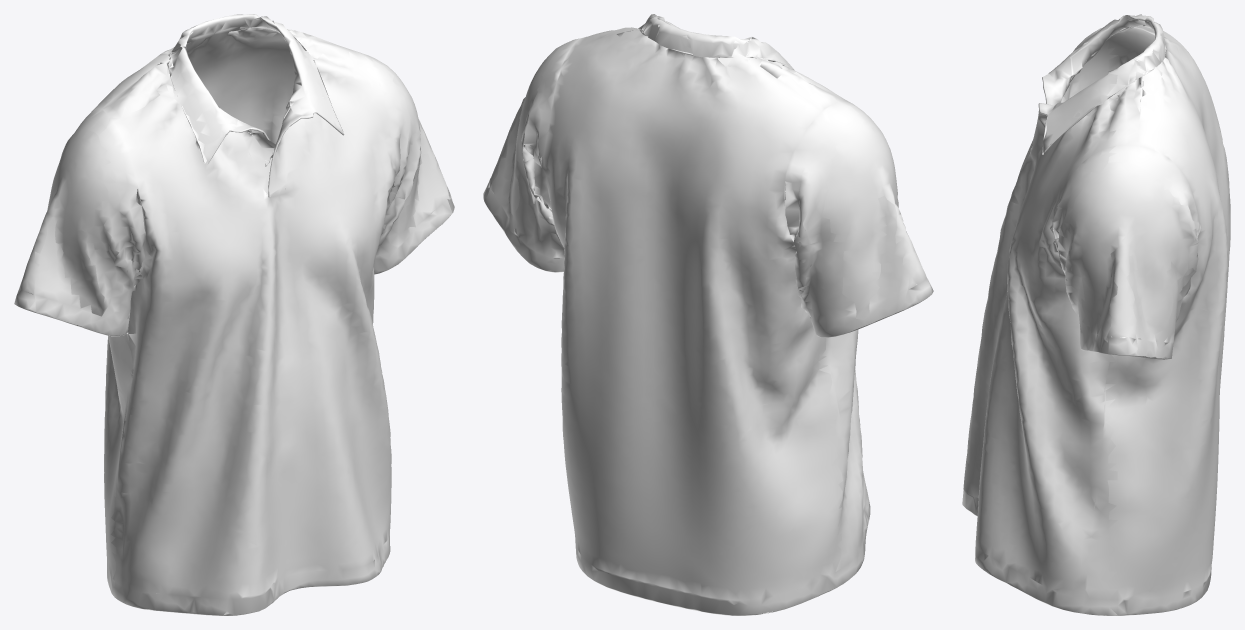
Rendered from polo.glb.
3 renders of one model, left to right at view 1: azimuth 30°, elevation 25°; view 2: azimuth 150°, elevation 25°; view 3: azimuth 270°, elevation 25°, orthographic. The views are drawn at different scales.
Visible parts, largest first — view 1: polo; view 2: polo; view 3: polo.
Boxes of the visible parts, x1,y1,x2,y2 form: polo: (14,14,454,615); polo: (483,14,933,615); polo: (962,14,1230,615).
Size of the model in its own units: 0.6037 by 0.7175 by 0.327.
1 material, 1 textured.
